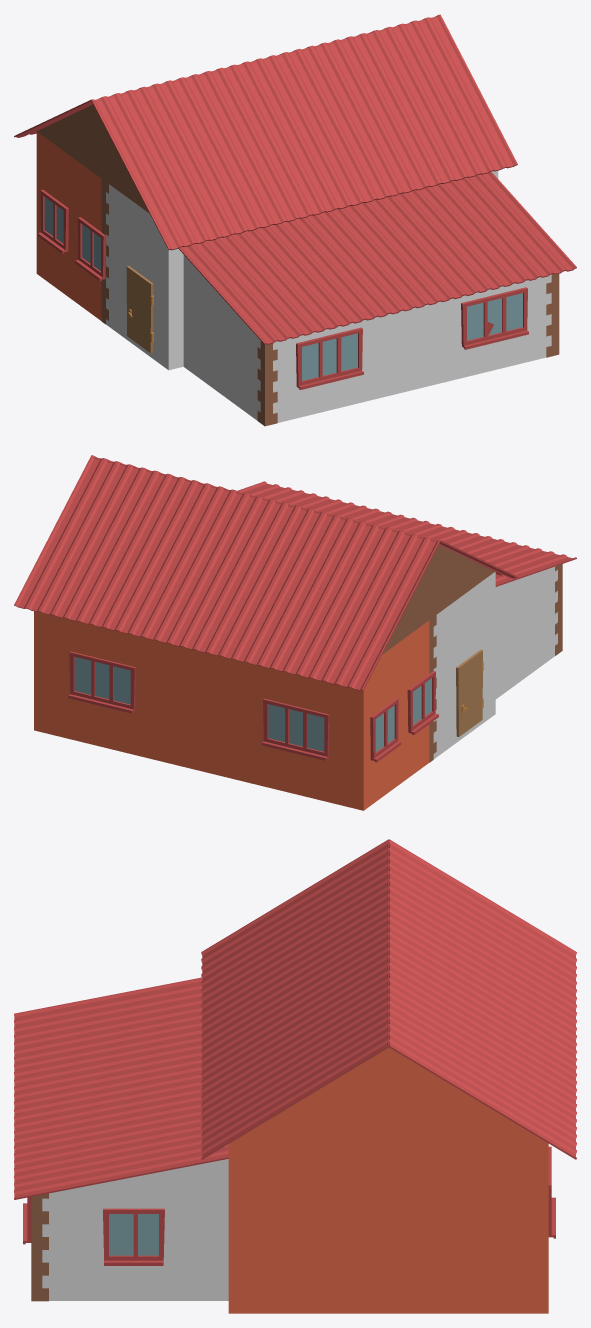
The model's file is House (3).fbx.
3 views of the same model, one above another, from view 1: azimuth 30°, elevation 25°; view 2: azimuth 150°, elevation 25°; view 3: azimuth 270°, elevation 25° (orthographic). The views are drawn at different scales.
Visible parts, largest first — view 1: House (3); view 2: House (3); view 3: House (3).
Boxes of the visible parts, x1,y1,x2,y2 form: House (3): [14, 14, 576, 426]; House (3): [14, 455, 576, 810]; House (3): [14, 839, 576, 1313].
Size of the model in its own units: 2936 by 1808 by 3382.
